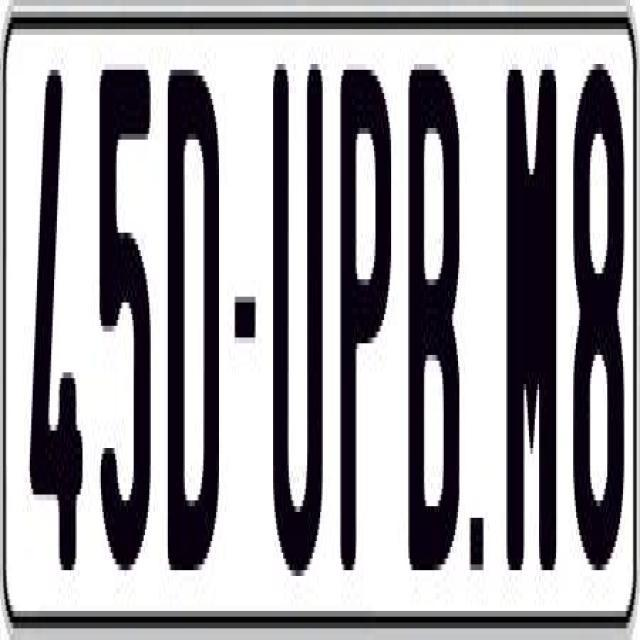4: (29, 58, 90, 576)
5: (98, 70, 149, 576)
8: (574, 64, 614, 570)
B: (408, 63, 459, 600)
D: (165, 52, 219, 564)
M: (505, 58, 562, 570)
P: (338, 52, 397, 588)
U: (268, 58, 328, 582)
